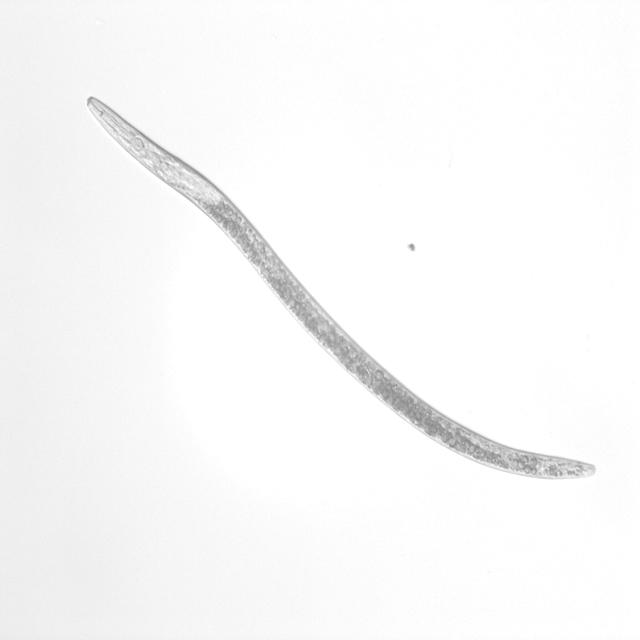Pratylenchus: (82, 87, 611, 491)
